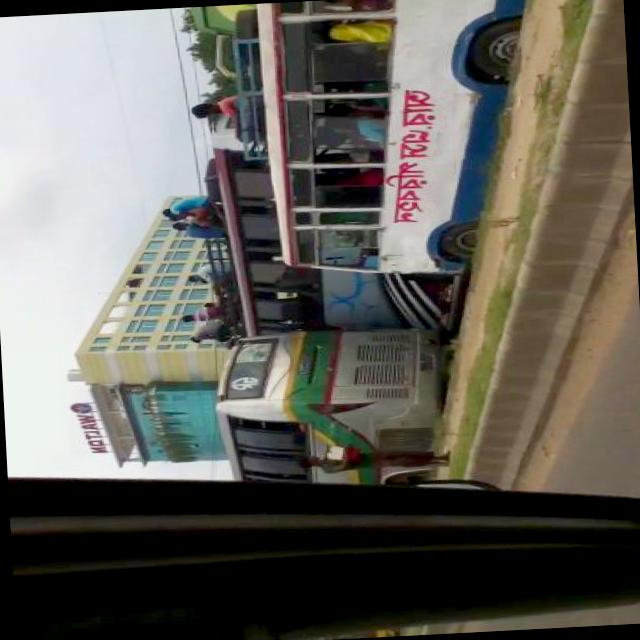bus: (222, 0, 547, 285), (205, 318, 453, 498)
